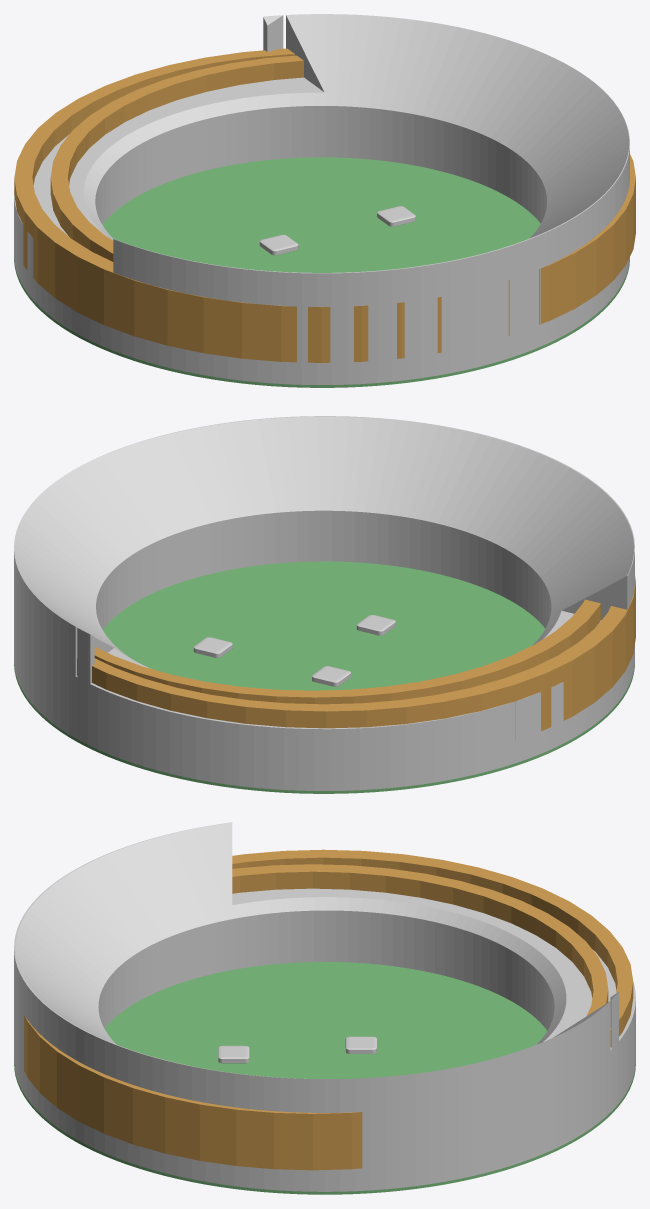
The model's file is Hudson - Baseball Stadium.glb.
3 renders of one model, top to bottom at view 1: azimuth 30°, elevation 25°; view 2: azimuth 150°, elevation 25°; view 3: azimuth 270°, elevation 25°, orthographic.
Visible parts, largest first — view 1: Mesh_Mesh_head_geo.001_lambert2SG.001; view 2: Mesh_Mesh_head_geo.001_lambert2SG.001; view 3: Mesh_Mesh_head_geo.001_lambert2SG.001.
Boxes of the visible parts, <box> form: Mesh_Mesh_head_geo.001_lambert2SG.001: <box>14,14,635,387</box>; Mesh_Mesh_head_geo.001_lambert2SG.001: <box>14,416,635,793</box>; Mesh_Mesh_head_geo.001_lambert2SG.001: <box>14,822,635,1194</box>.
Size of the model in its own units: 0.201 by 0.041 by 0.2.
